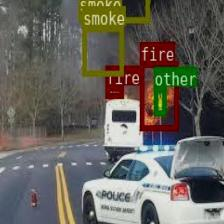fire: (140, 61, 178, 129), (105, 84, 123, 98)
smoke: (81, 24, 123, 74), (78, 0, 149, 21)
